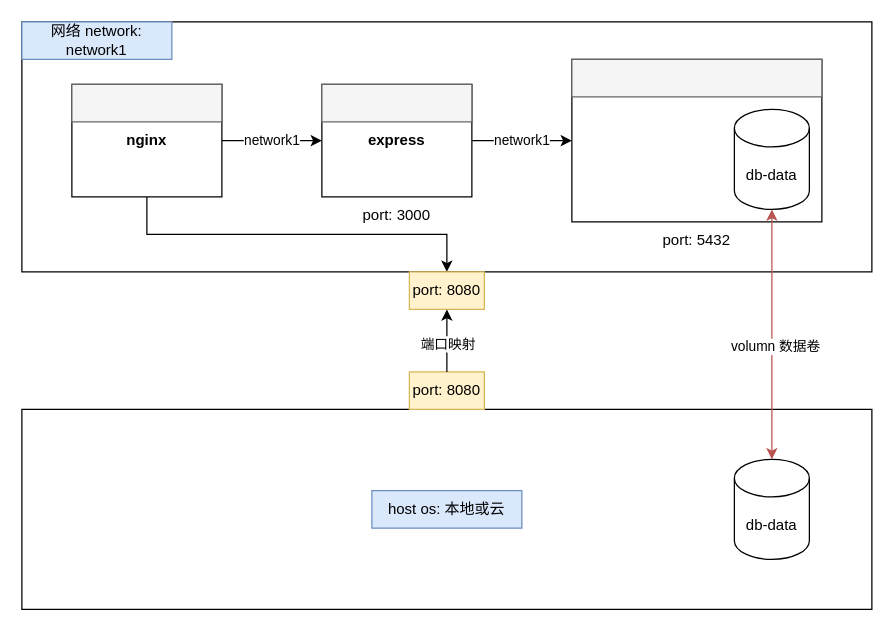
This 894x631 diagram has some shape labels left out. Each missing label, with the centre of its shape:
"docker container 1" goes at point (146, 102).
"docker container 2" goes at point (396, 102).
"docker container 3: postgres:14" goes at point (696, 77).
